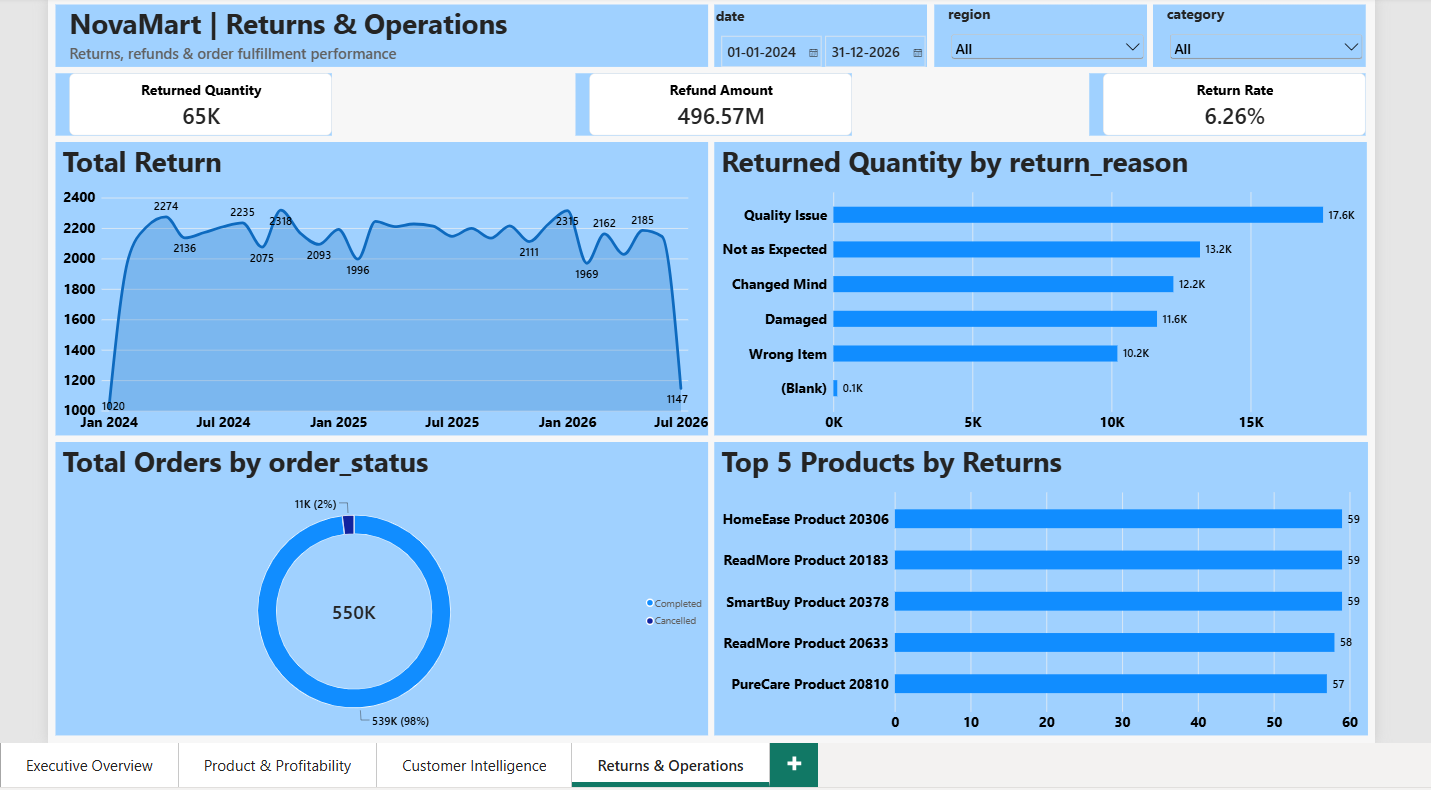

The dashboard page shown, as its layout file describes it:
{"tool":"powerbi","page":{"name":"Returns & Operations","canvas":[1920,1080],"ordinal":3},"visuals":[{"type":"textbox","title":"NovaMart | Returns & Operations","box":[10.9,10.9,945,90],"z":0},{"type":"slicer","title":"date","fields":{"Values":["dim_date.date"]},"box":[964.5,10.9,308,90],"z":1000},{"type":"slicer","title":"region","fields":{"Values":["customers_clean.region"]},"box":[1283,10,308,90],"z":2000},{"type":"slicer","title":"category","fields":{"Values":["products_clean.category"]},"box":[1600,10,308,90],"z":3000},{"type":"cardVisual","fields":{"Data":["Return_measures.Refund Amount"]},"box":[763.7,110.4,400,90],"z":4000},{"type":"cardVisual","fields":{"Data":["Return_measures.Return Rate"]},"box":[1507.4,110.4,400,90],"z":5000},{"type":"cardVisual","fields":{"Data":["Return_measures.Returned Quantity"]},"box":[10.9,110,400,90],"z":6000},{"type":"lineChart","title":"Total Return","fields":{"Category":["dim_date.month_year"],"Y":["Return_measures.Returned Quantity"]},"box":[10,210,945,425],"z":7000},{"type":"barChart","fields":{"Category":["returns_clean.return_reason"],"Y":["Return_measures.Returned Quantity"]},"box":[965,210,945,425],"z":8000},{"type":"barChart","title":"Top 5 Products by Returns","fields":{"Category":["products_clean.product_name"],"Y":["Return_measures.Returned Quantity"]},"box":[964.5,645,946.5,425],"z":9000},{"type":"donutChart","fields":{"Category":["orders_clean.order_status"],"Y":["Sales_measures.Total Orders"]},"box":[10,645,945,425],"z":10000}]}

Visuals, with their boxes on the page's 1920x1080 design canvas (x1, y1, x2, y2). These are canvas units, not pixel positions in the 1431x790 screenshot, which may show the page scaled, cropped or inside an application window:
"NovaMart | Returns & Operations" textbox: box(11, 11, 956, 101)
"date" slicer: box(964, 11, 1272, 101)
"region" slicer: box(1283, 10, 1591, 100)
"category" slicer: box(1600, 10, 1908, 100)
cardVisual - Return_measures.Refund Amount: box(764, 110, 1164, 200)
cardVisual - Return_measures.Return Rate: box(1507, 110, 1907, 200)
cardVisual - Return_measures.Returned Quantity: box(11, 110, 411, 200)
"Total Return" lineChart: box(10, 210, 955, 635)
barChart - returns_clean.return_reason x Return_measures.Returned Quantity: box(965, 210, 1910, 635)
"Top 5 Products by Returns" barChart: box(964, 645, 1911, 1070)
donutChart - orders_clean.order_status x Sales_measures.Total Orders: box(10, 645, 955, 1070)
